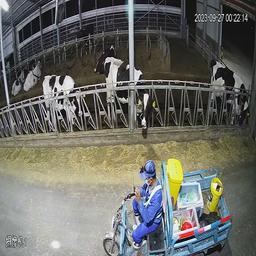cow: (103, 58, 151, 135), (209, 55, 252, 137), (40, 73, 88, 138), (92, 37, 121, 71), (24, 57, 43, 92), (8, 60, 25, 99), (71, 19, 94, 40)
